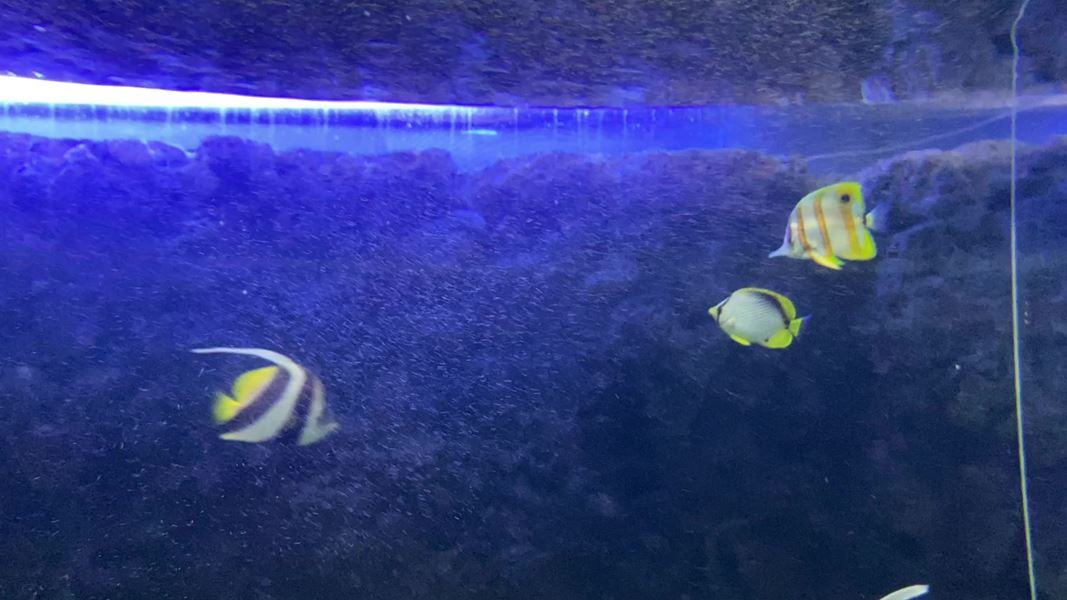Black-backed butterflyfish: (701, 282, 819, 358)
